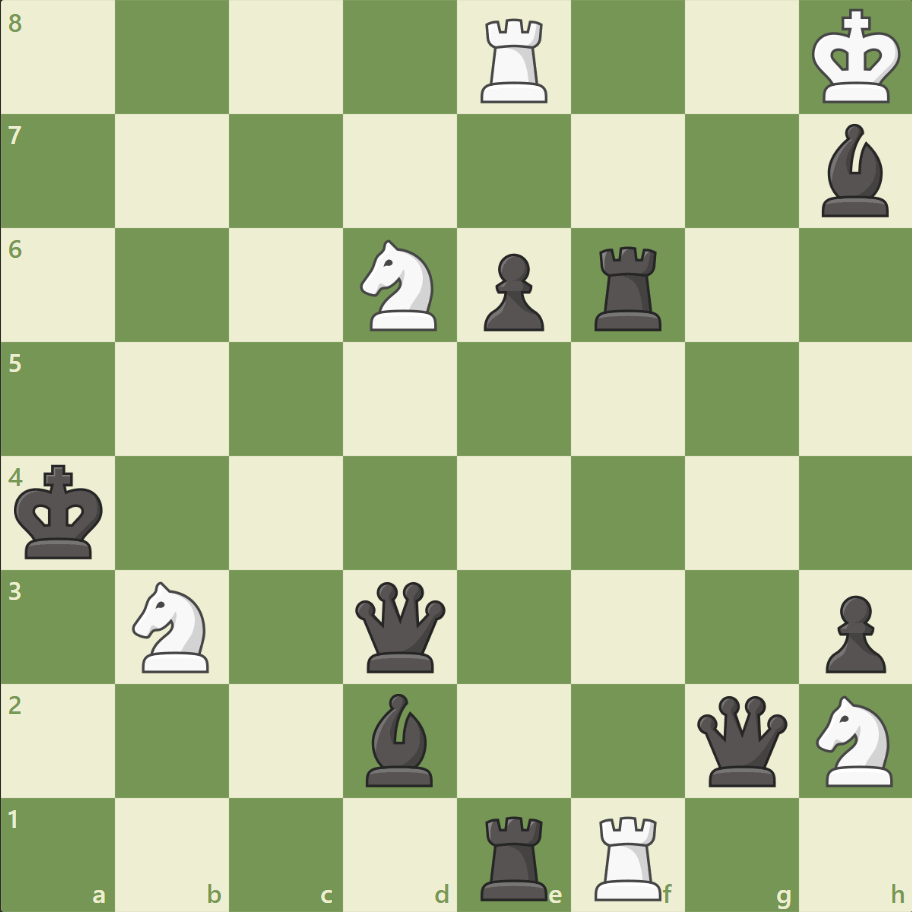K: (806, 4, 906, 112)
N: (351, 234, 449, 337), (124, 575, 222, 677), (806, 688, 903, 791)
R: (587, 806, 670, 904), (473, 12, 556, 109)
b: (358, 687, 442, 790), (812, 120, 896, 222)
k: (11, 458, 111, 566)
p: (474, 246, 549, 337), (815, 586, 889, 677)
q: (351, 576, 450, 676), (691, 690, 790, 789)
r: (473, 806, 556, 904), (587, 239, 670, 336)
